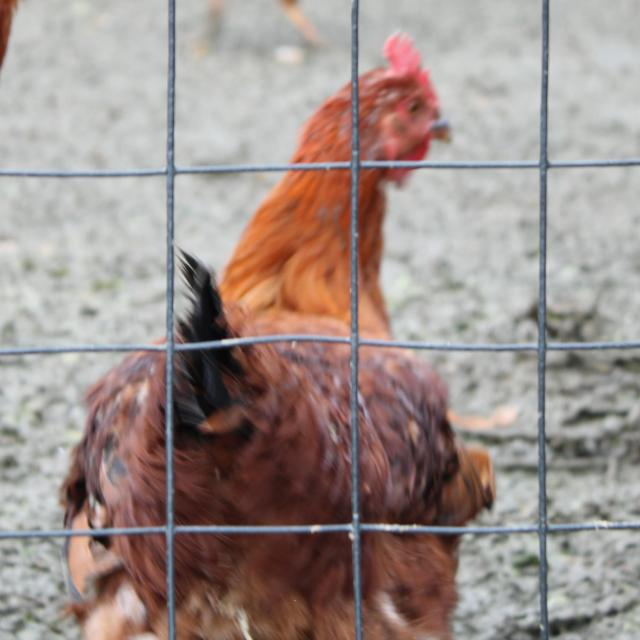cook: (173, 170, 352, 525), (359, 346, 495, 526), (219, 170, 351, 325), (175, 534, 354, 640), (64, 351, 167, 530), (355, 33, 449, 162), (341, 164, 408, 340), (357, 34, 449, 161), (343, 165, 408, 341), (66, 535, 168, 640), (361, 534, 459, 640), (289, 85, 354, 164), (292, 85, 352, 164)
